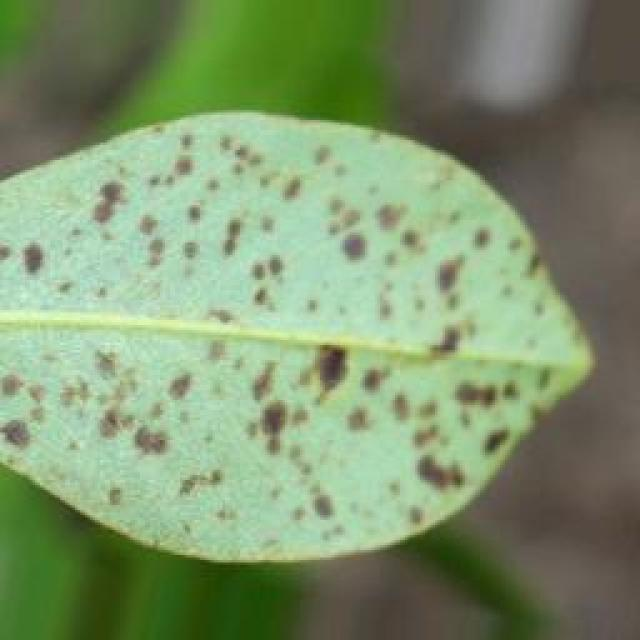Whitefly: (0, 87, 603, 558)
